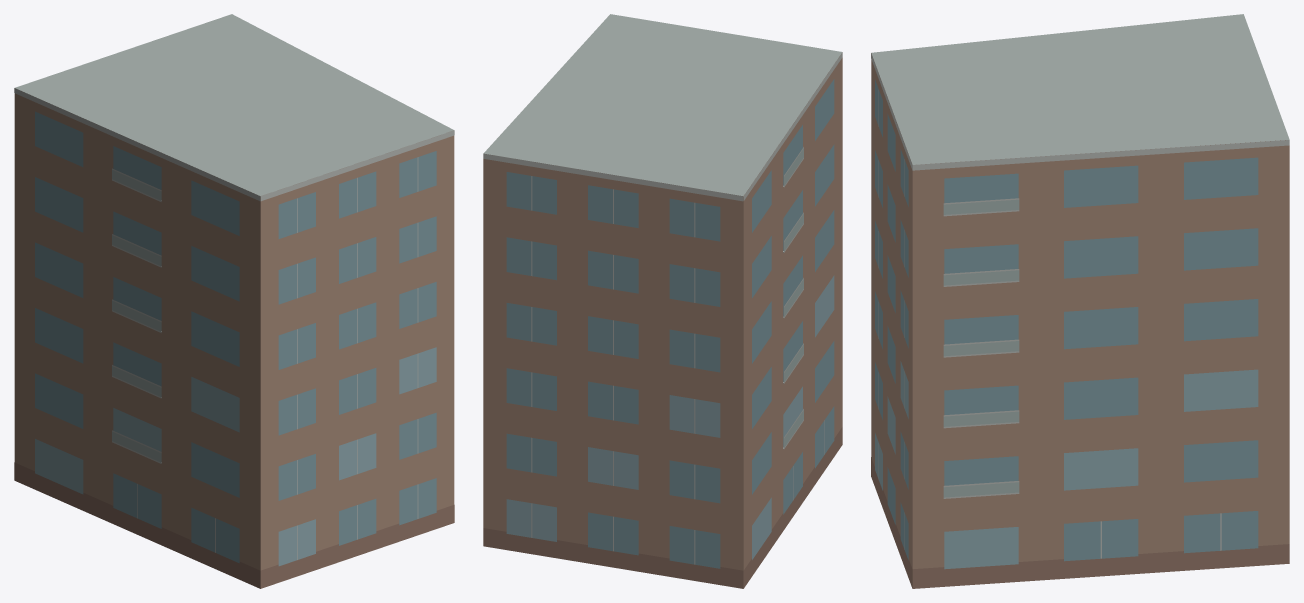
Rendered from survey-upis-32967683.glb.
3 views of the same model, side by side, from view 1: azimuth 30°, elevation 25°; view 2: azimuth 150°, elevation 25°; view 3: azimuth 270°, elevation 25° (orthographic). The views are drawn at different scales.
Parts seen in each view (by area): view 1: survey-upis-32967683.tmp; view 2: survey-upis-32967683.tmp; view 3: survey-upis-32967683.tmp.
Boxes of the visible parts, x1,y1,x2,y2 form: survey-upis-32967683.tmp: [14, 14, 454, 588]; survey-upis-32967683.tmp: [483, 14, 842, 588]; survey-upis-32967683.tmp: [871, 14, 1289, 588].
Size of the model in its own units: 13.99 by 18.3 by 16.39.
